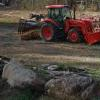Tractor: (16, 1, 100, 49)
